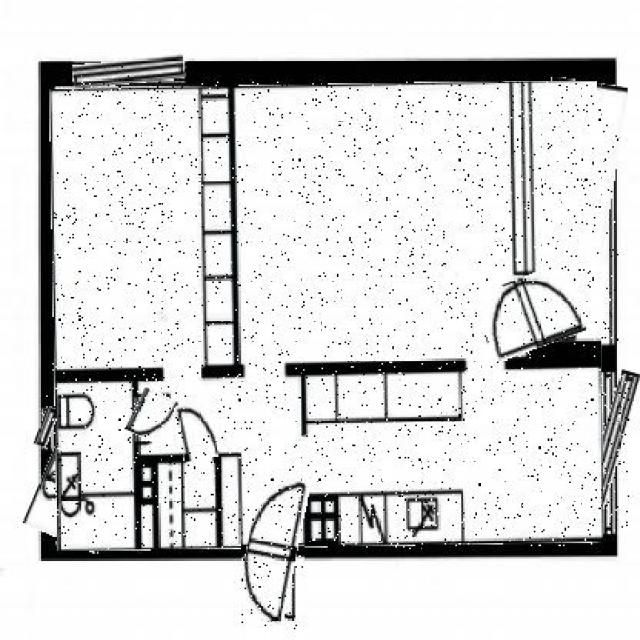door: (242, 471, 304, 631), (479, 271, 583, 354), (128, 391, 175, 443), (177, 403, 215, 462)
window: (588, 369, 629, 534), (74, 57, 184, 86), (38, 408, 57, 448)
zone: (53, 82, 602, 549), (523, 80, 619, 342), (39, 369, 150, 549), (135, 456, 240, 544)
